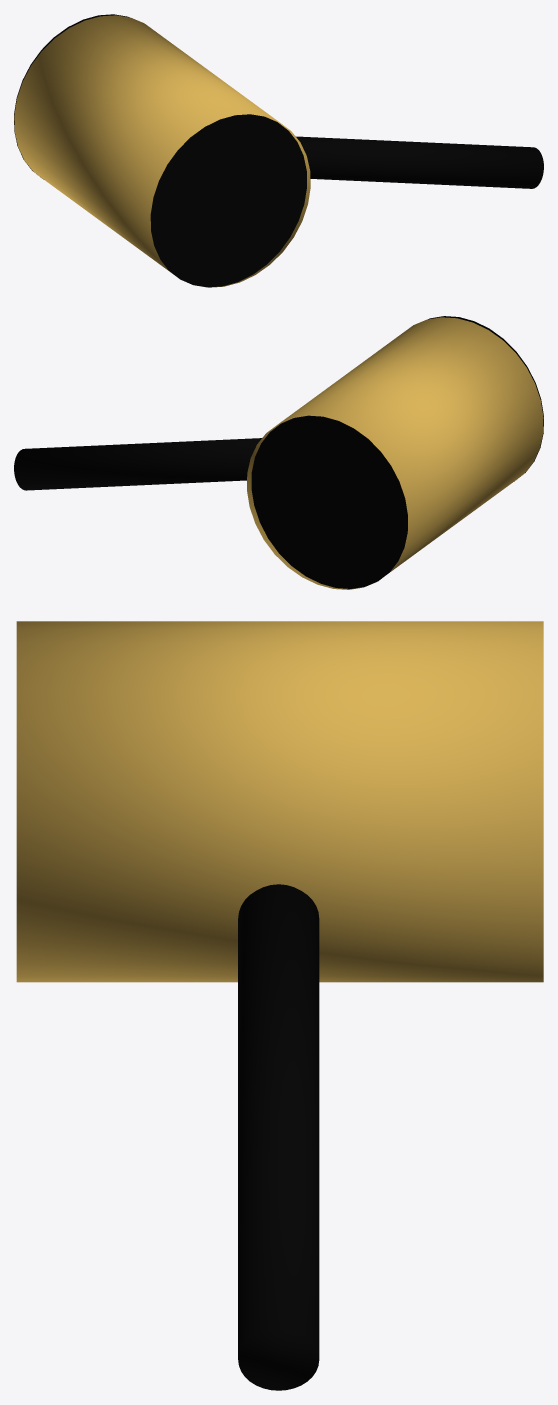
The model's file is martillo.fbx.
3 views of the same model, one above another, from view 1: azimuth 30°, elevation 25°; view 2: azimuth 150°, elevation 25°; view 3: azimuth 270°, elevation 25° (orthographic). The views are drawn at different scales.
Visible parts, largest first — view 1: Text; view 2: Text; view 3: Text.
Boxes of the visible parts, <box> form: Text: <box>14,14,543,287</box>; Text: <box>14,316,543,589</box>; Text: <box>16,621,543,1390</box>.
Size of the model in its own units: 169 by 74.42 by 87.37.
